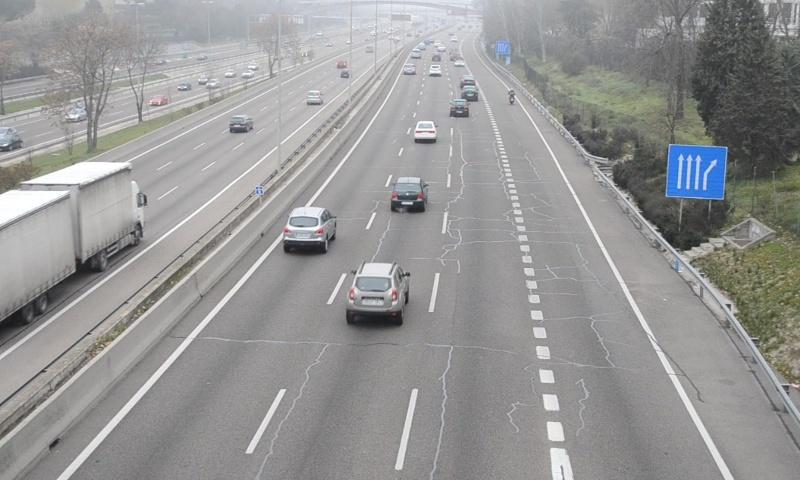car: (346, 263, 408, 314), (284, 208, 336, 242), (391, 177, 428, 209), (414, 120, 436, 140), (450, 98, 468, 118), (461, 85, 479, 102)
motorcycle: (507, 87, 516, 105)
